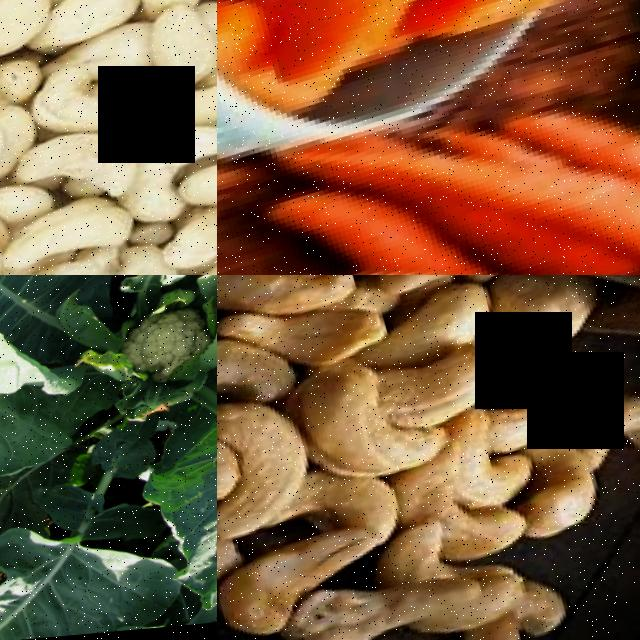cashew: (247, 364, 409, 531), (217, 518, 387, 640), (219, 388, 332, 544), (331, 287, 495, 394), (264, 564, 474, 640), (0, 124, 141, 231), (369, 347, 514, 450), (244, 290, 386, 372), (515, 447, 606, 557), (0, 205, 131, 275), (563, 377, 640, 490), (144, 0, 217, 105), (424, 491, 520, 570), (217, 275, 343, 331), (217, 528, 270, 640), (217, 327, 260, 446), (84, 240, 192, 275), (176, 149, 217, 236)
cauliflower: (55, 275, 217, 473)
